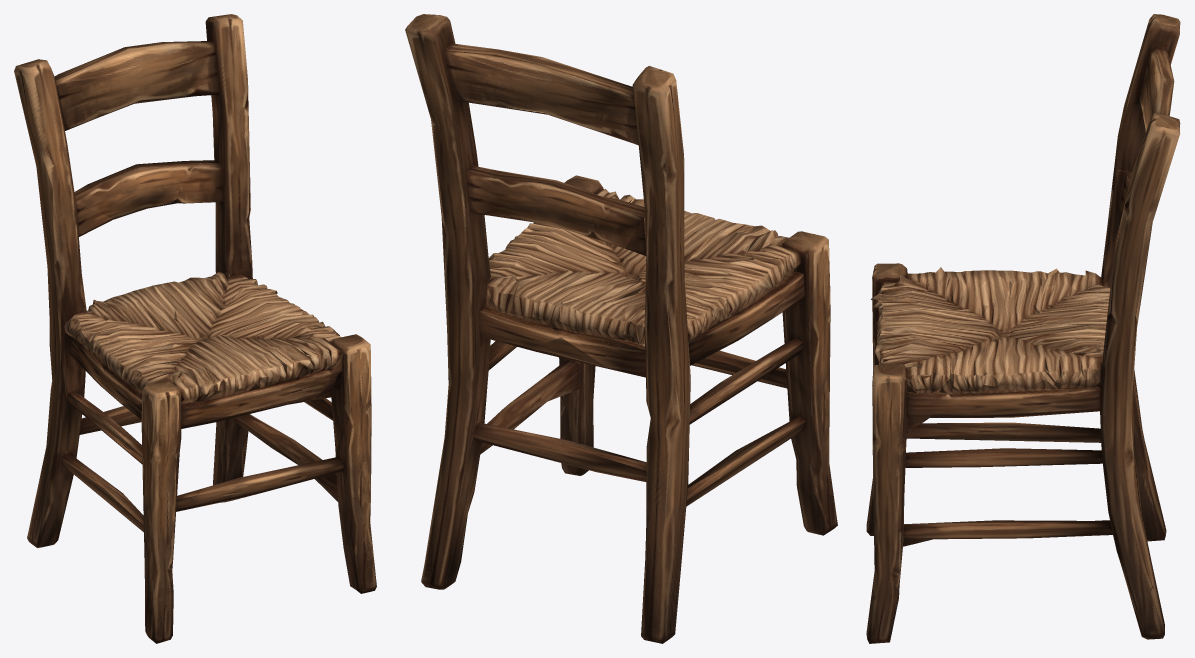
Rendered from Prop_Chair.fbx.
3 views of the same model, side by side, from view 1: azimuth 30°, elevation 25°; view 2: azimuth 150°, elevation 25°; view 3: azimuth 270°, elevation 25° (orthographic). The views are drawn at different scales.
Visible parts, largest first — view 1: Mesh_0; view 2: Mesh_0; view 3: Mesh_0.
Part boxes in pixels (bbox=[...]): Mesh_0: bbox=[14, 14, 376, 643]; Mesh_0: bbox=[405, 14, 837, 643]; Mesh_0: bbox=[866, 14, 1180, 643].
Size of the model in its own units: 93.34 by 190 by 104.
1 material, 1 textured.
